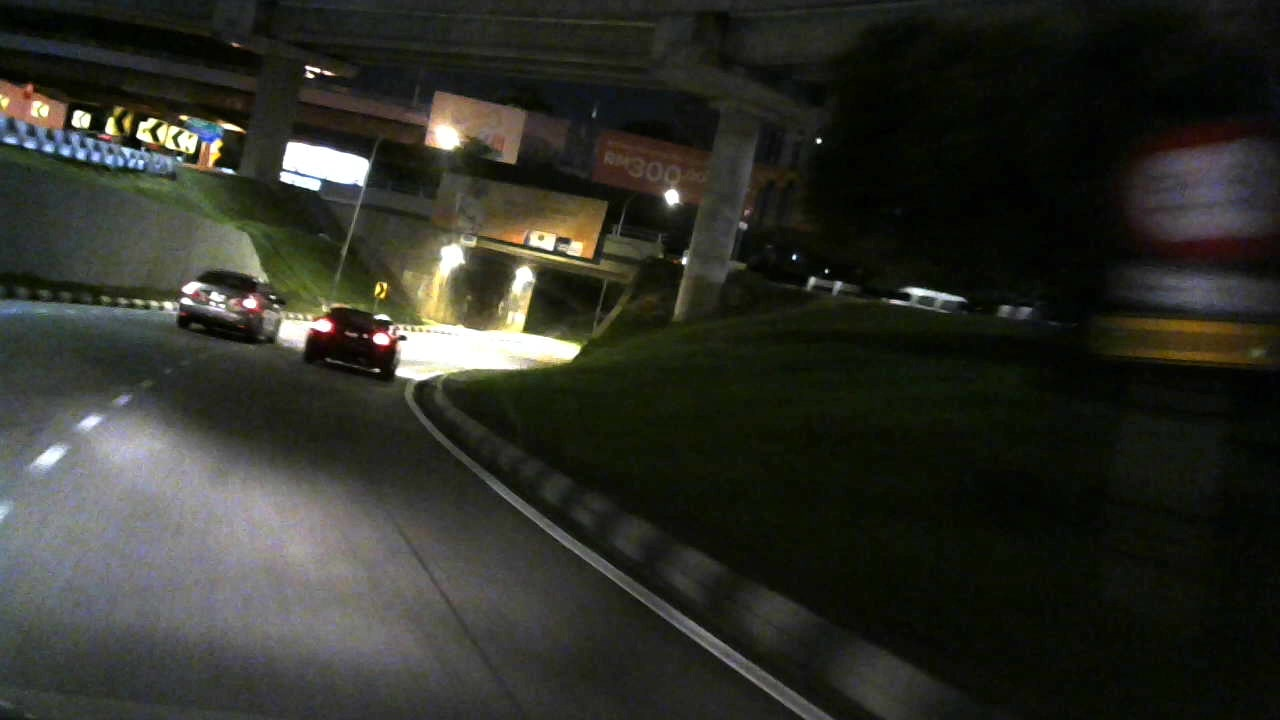Car: (171, 263, 286, 348), (302, 295, 406, 381)
